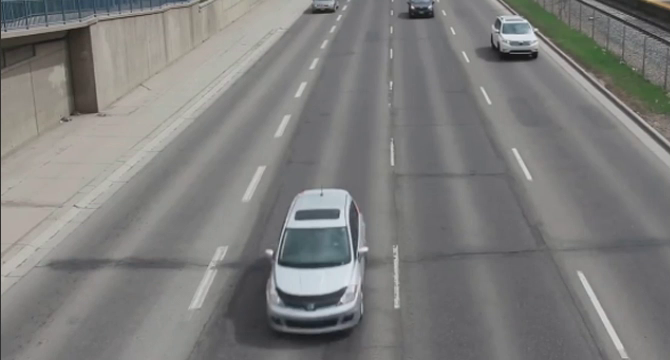car: (265, 184, 376, 341), (484, 14, 548, 61), (402, 1, 441, 19), (310, 1, 341, 15)
